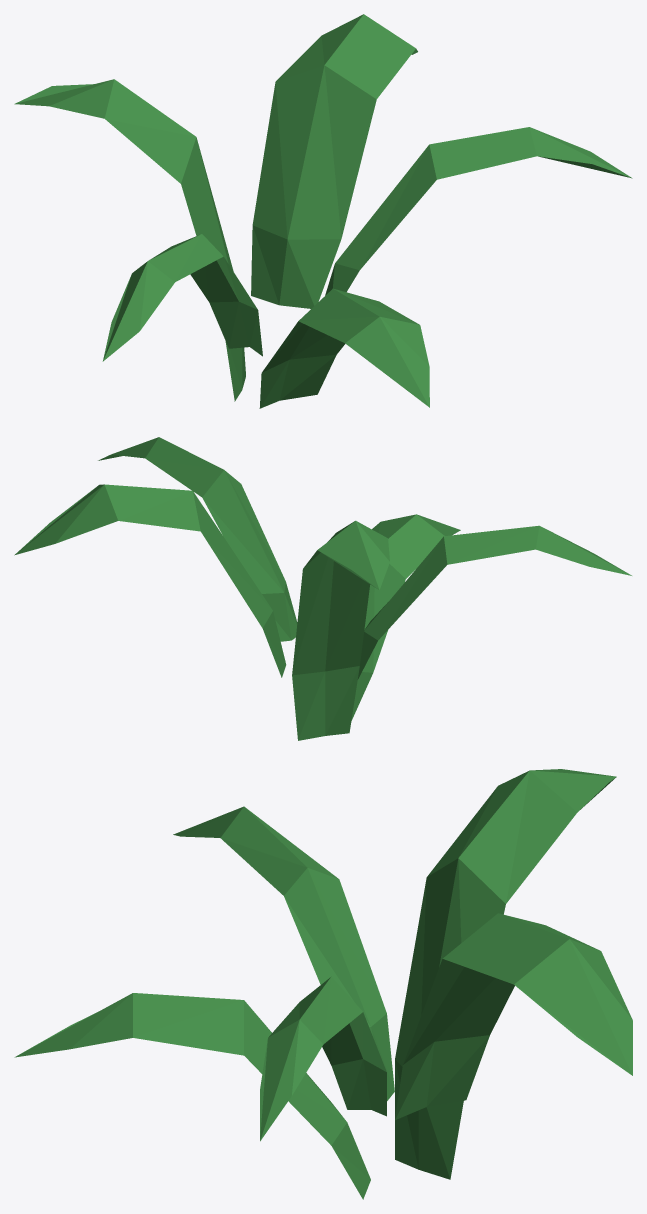
File: obj_jungle_plant_1_0.obj
3 views of the same model, one above another, from view 1: azimuth 30°, elevation 25°; view 2: azimuth 150°, elevation 25°; view 3: azimuth 270°, elevation 25° (orthographic). The views are drawn at different scales.
Size of the model in its own units: 0.7656 by 0.3828 by 0.6094.
